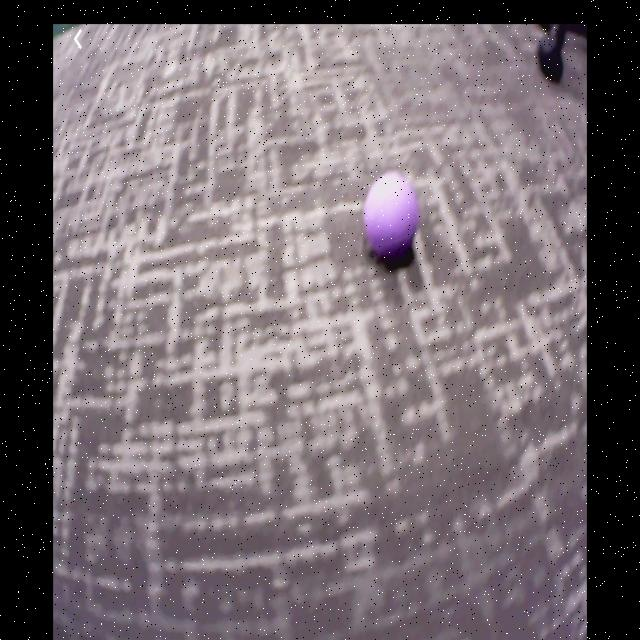ball: (364, 175, 419, 252)
